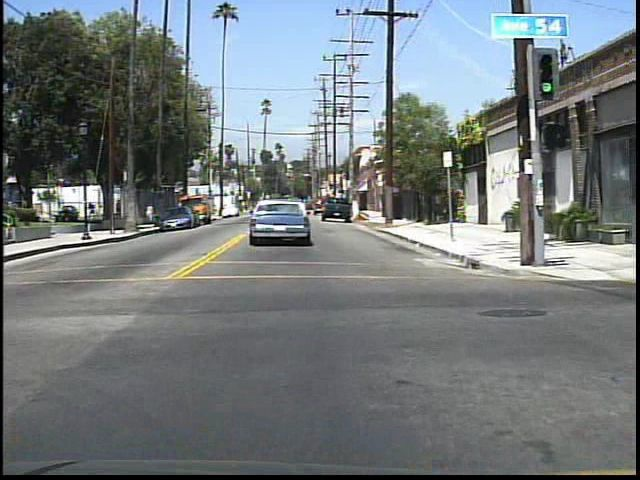person: (111, 195, 125, 220), (145, 198, 157, 227), (87, 198, 97, 220)
